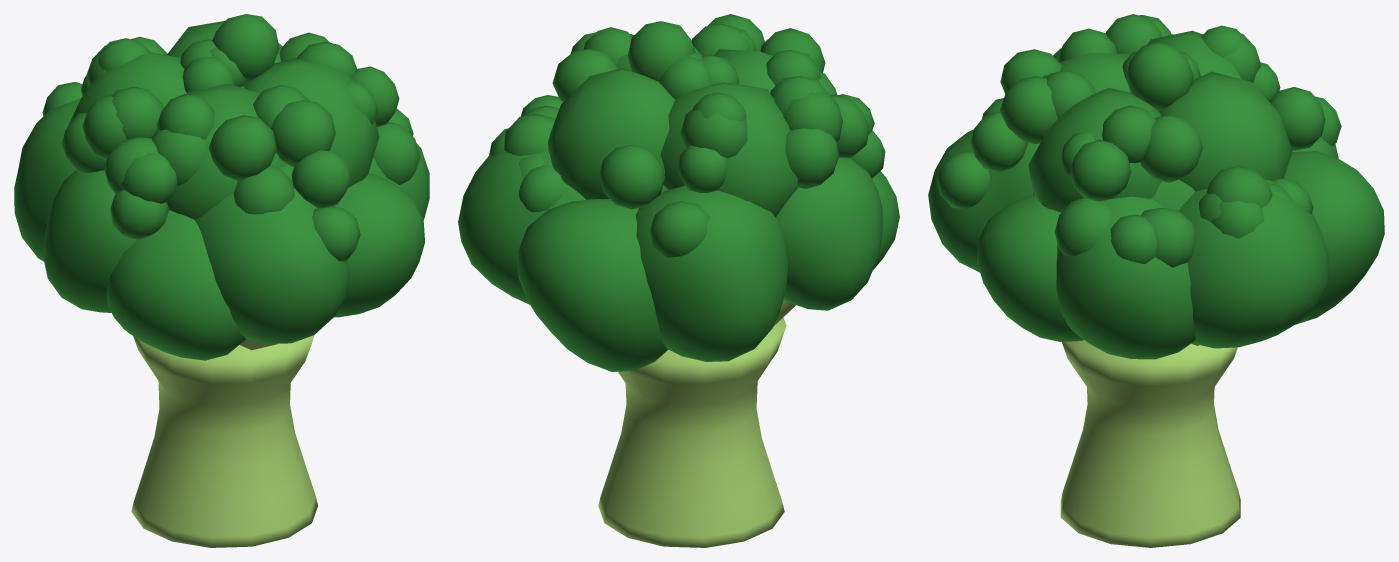
The model's file is VeggieBroccoli.obj.
3 renders of one model, left to right at view 1: azimuth 30°, elevation 25°; view 2: azimuth 150°, elevation 25°; view 3: azimuth 270°, elevation 25°, orthographic.
Visible parts, largest first — view 1: BroccoliCrown, BroccoliStalk; view 2: BroccoliCrown, BroccoliStalk; view 3: BroccoliCrown, BroccoliStalk.
Part boxes in pixels (x1,y1,x2,y2): BroccoliCrown: [14, 14, 429, 360]; BroccoliStalk: [131, 335, 317, 547]; BroccoliCrown: [458, 14, 899, 371]; BroccoliStalk: [598, 299, 795, 547]; BroccoliCrown: [928, 14, 1384, 359]; BroccoliStalk: [1060, 340, 1240, 547].
Size of the model in its own units: 2 by 2.58 by 2.23.
